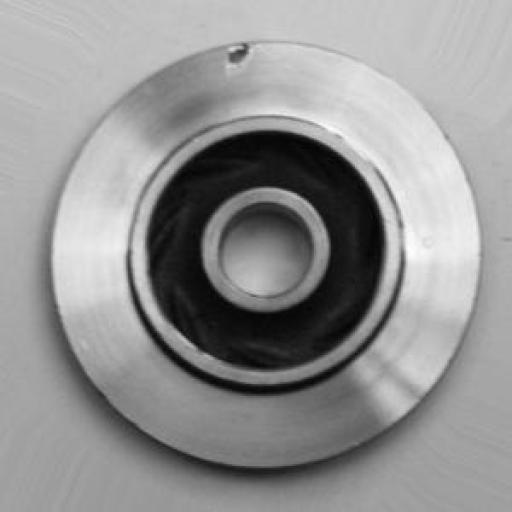defect: (192, 23, 278, 90)
